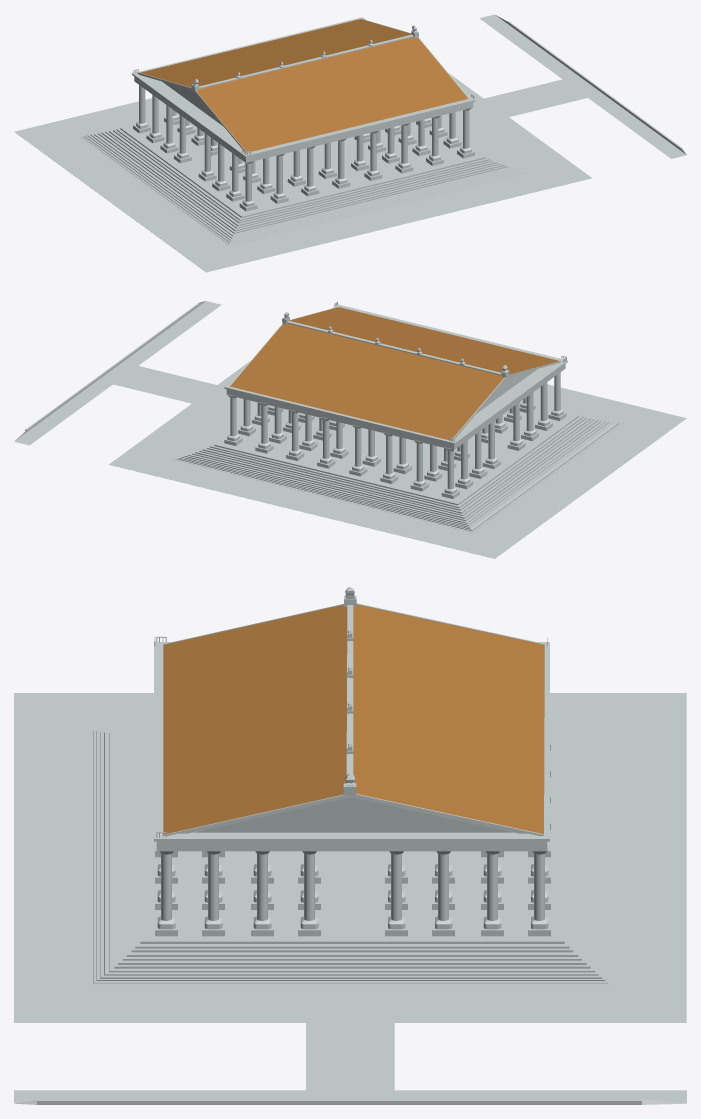
Rendered from TempleAug.gltf.
3 views of the same model, one above another, from view 1: azimuth 30°, elevation 25°; view 2: azimuth 150°, elevation 25°; view 3: azimuth 270°, elevation 25° (orthographic). The views are drawn at different scales.
Parts seen in each view (by area): view 1: building.001; view 2: building.001; view 3: building.001.
Boxes of the visible parts, <box> form: building.001: <box>14,14,686,272</box>; building.001: <box>14,301,686,558</box>; building.001: <box>14,587,686,1104</box>.
Bounding box in the file's own units: 292 × 59.27 × 201.
